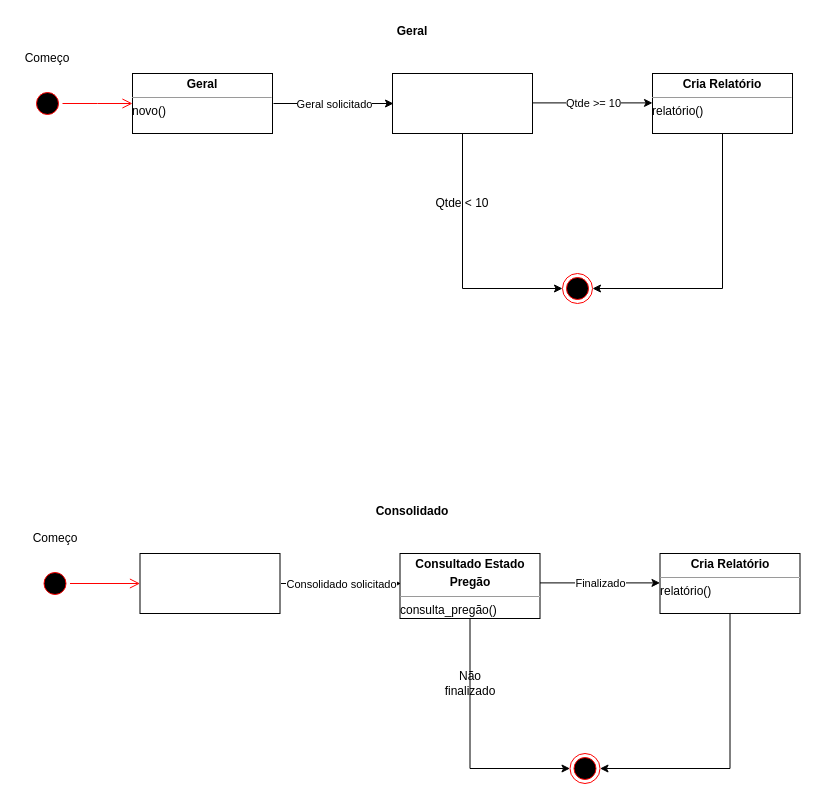
Image size: 817x801. Some labels were removed from this diagram. The centre of each missing label's shape, as x and y in pixels:
"Consolidado novo()" belongs at [209,583].
"Qtde Pregões confirma_qtde()" belongs at [462,103].
